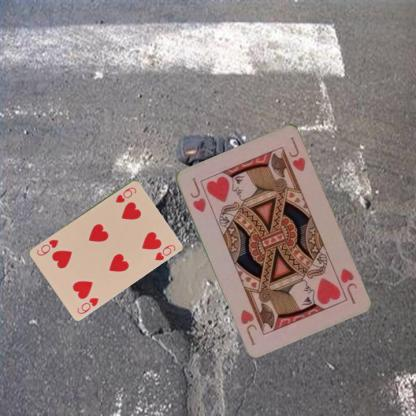6h: (74, 295, 100, 316), (113, 184, 138, 204)
Jh: (330, 265, 358, 306), (186, 174, 206, 214)
